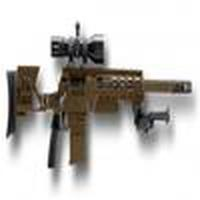gun: (2, 29, 194, 176)
